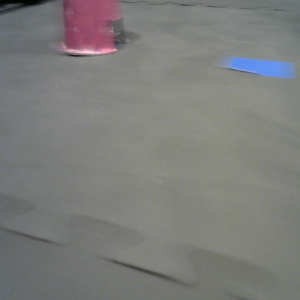right: (215, 1, 287, 62)
